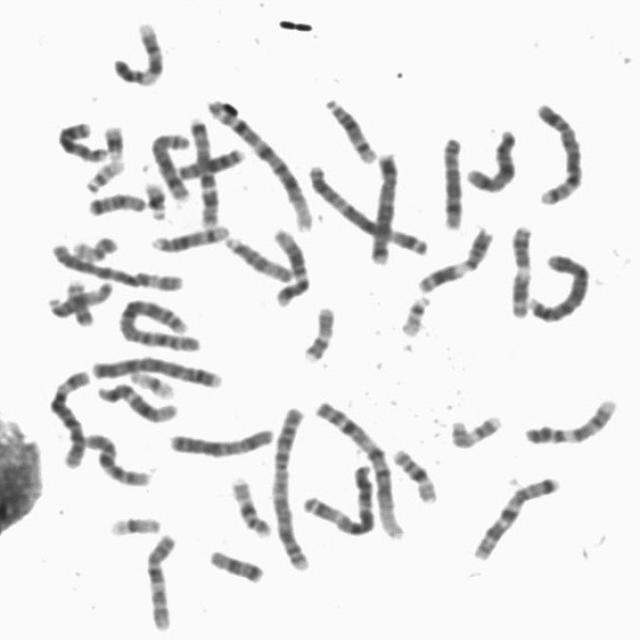A1: (200, 92, 318, 233), (308, 394, 408, 541)
A2: (266, 398, 316, 572), (114, 292, 205, 354)
A3: (302, 156, 433, 256), (298, 456, 379, 539)
B4: (86, 349, 226, 390), (523, 246, 594, 324)
B5: (530, 95, 588, 207), (364, 144, 402, 267)
C10: (78, 426, 155, 488), (139, 526, 181, 634)
C11: (411, 220, 498, 295), (504, 217, 536, 319)
C12: (92, 376, 182, 424), (266, 222, 316, 307)
C6: (44, 236, 187, 293), (42, 362, 94, 470)
C7: (467, 468, 565, 562), (181, 110, 223, 229)
C8: (144, 125, 193, 203), (435, 128, 467, 232)
C9: (519, 390, 622, 447), (106, 12, 168, 88)
D13: (172, 141, 248, 182), (52, 114, 111, 164)
D14: (319, 90, 381, 164), (146, 217, 233, 253)
D15: (220, 229, 296, 283), (42, 274, 116, 318)
E16: (387, 440, 442, 506), (226, 469, 276, 539)
E17: (444, 407, 506, 451), (298, 299, 339, 363)
E18: (204, 542, 268, 584), (82, 185, 149, 217)
F19: (124, 363, 179, 400), (103, 508, 165, 538)
F20: (60, 273, 98, 327), (66, 229, 121, 264)
G21: (138, 175, 170, 221), (98, 118, 127, 162)
G22: (394, 287, 435, 339), (80, 153, 128, 193)
X: (164, 420, 279, 459), (460, 121, 522, 193)
